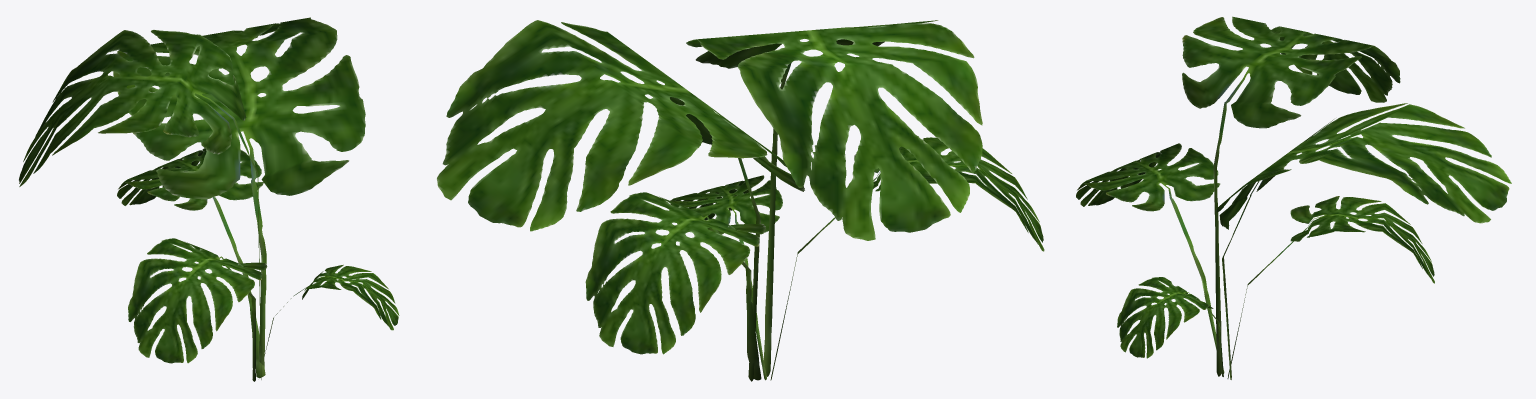
File: Plant_02_Art.glb
3 views of the same model, side by side, from view 1: azimuth 30°, elevation 25°; view 2: azimuth 150°, elevation 25°; view 3: azimuth 270°, elevation 25° (orthographic). The views are drawn at different scales.
Parts seen in each view (by area): view 1: Plant_02_Art; view 2: Plant_02_Art; view 3: Plant_02_Art.
Part boxes in pixels (x1,y1,x2,y2): Plant_02_Art: [19, 17, 399, 381]; Plant_02_Art: [437, 20, 1044, 381]; Plant_02_Art: [1076, 16, 1511, 379].
Size of the model in its own units: 3.12 by 2.6 by 3.45.
1 material, 1 textured.
